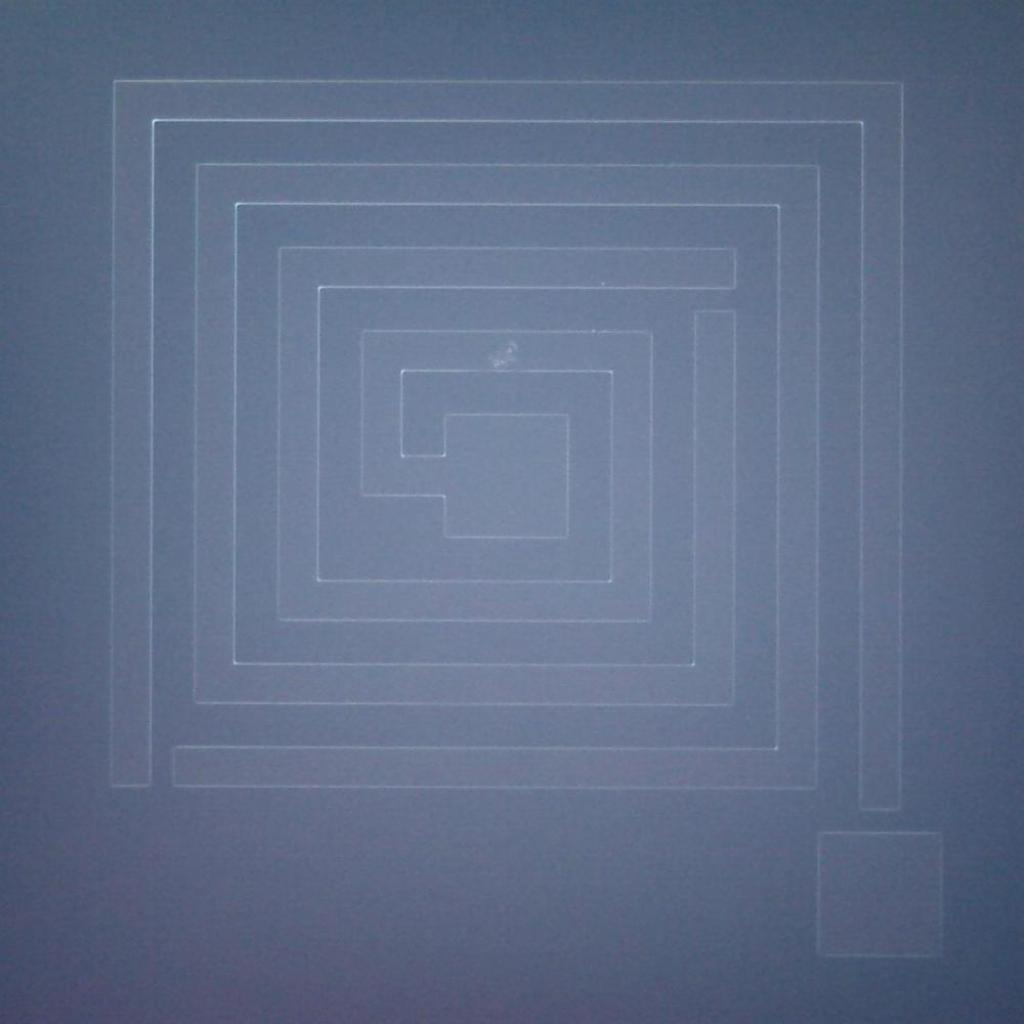short circuit: (126, 734, 197, 803), (672, 272, 752, 329), (845, 790, 917, 847)
